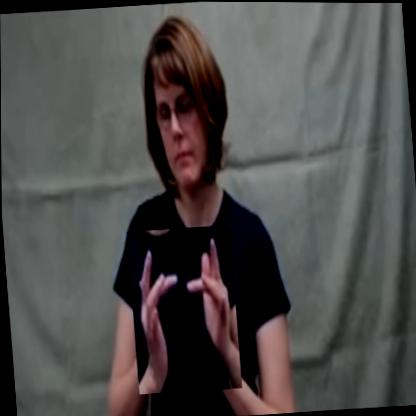Internet: (127, 224, 242, 395)
